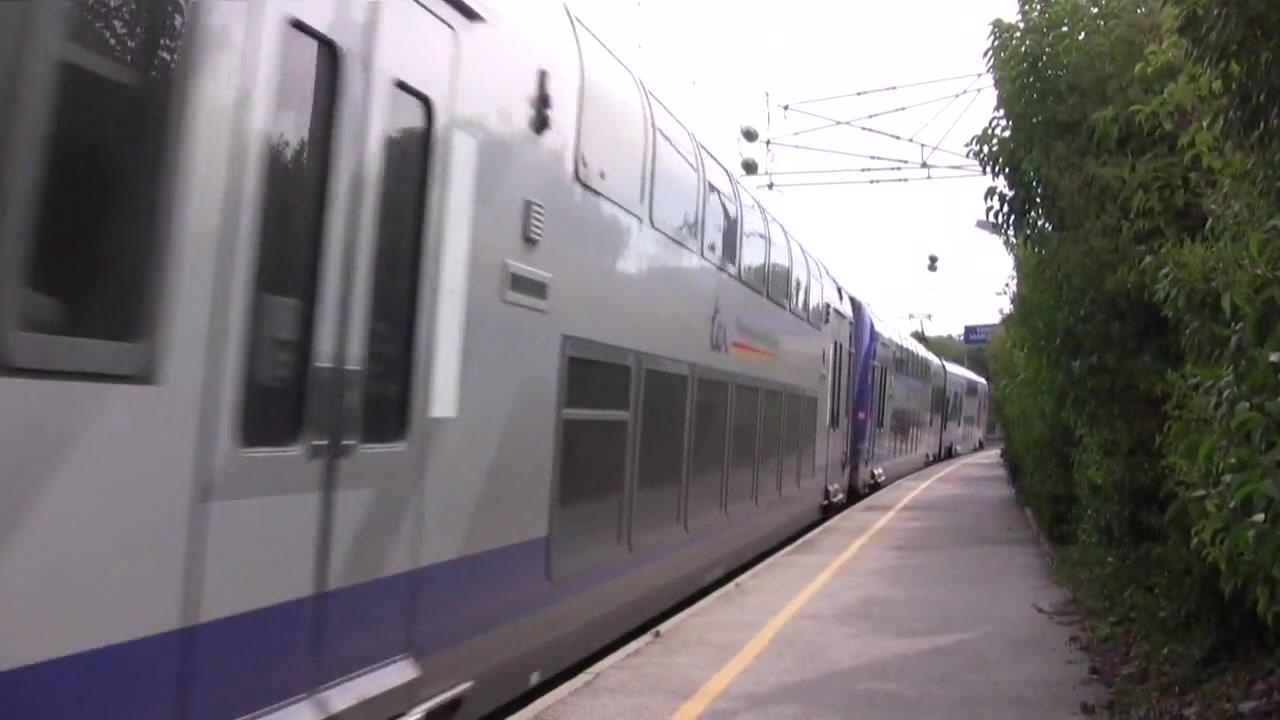train: (1, 1, 994, 720)
